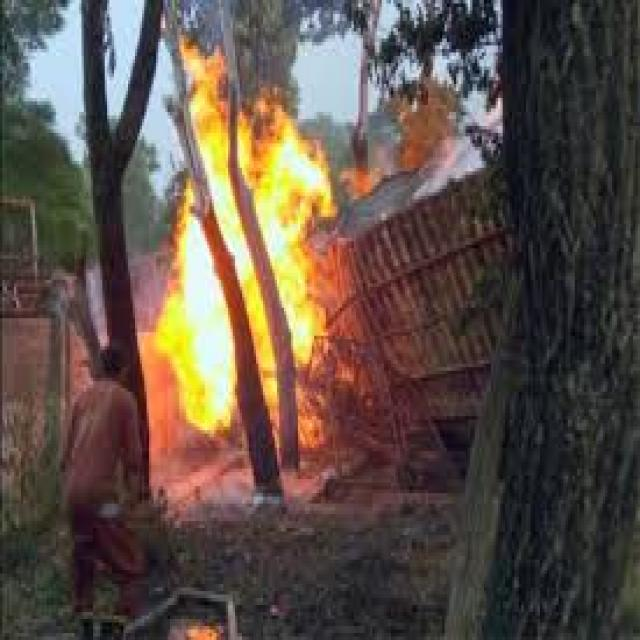fire: (177, 39, 333, 364), (153, 189, 240, 437)
